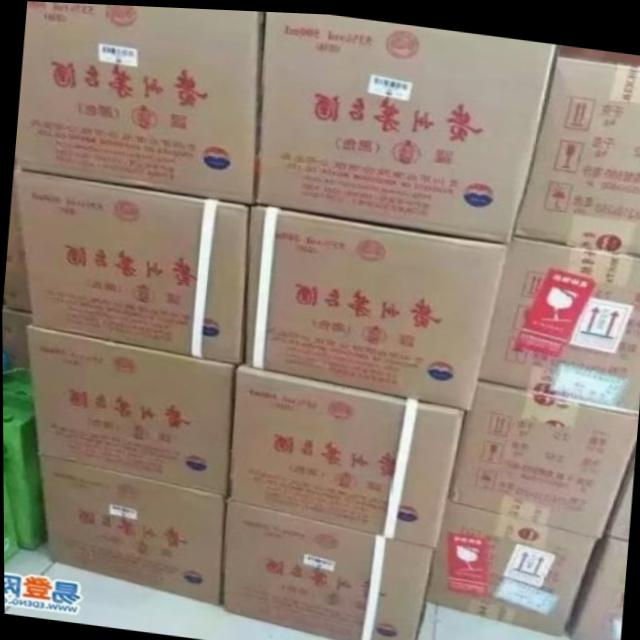box: (256, 9, 558, 235), (243, 202, 505, 408), (14, 1, 260, 199), (14, 169, 248, 360), (227, 358, 465, 543), (25, 324, 236, 493), (213, 494, 432, 640), (446, 372, 634, 533), (477, 231, 640, 408), (37, 454, 223, 606), (517, 40, 640, 249), (425, 493, 596, 632), (563, 528, 625, 640), (2, 410, 39, 548), (6, 169, 28, 309), (602, 440, 630, 535), (3, 308, 27, 367), (2, 371, 33, 411), (3, 458, 14, 559), (2, 359, 24, 372)
